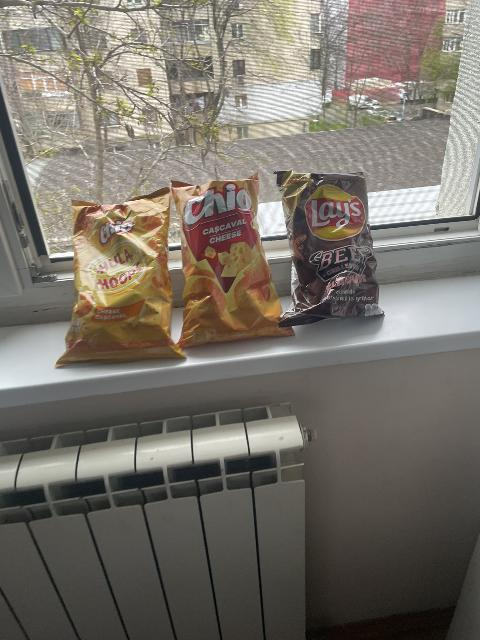Chio Cascaval 125g: (172, 174, 295, 347)
Chio Hula Hoops Cheese 70g: (55, 189, 184, 365)
Lays Beef Grilled Ribs 125g: (281, 170, 387, 325)
